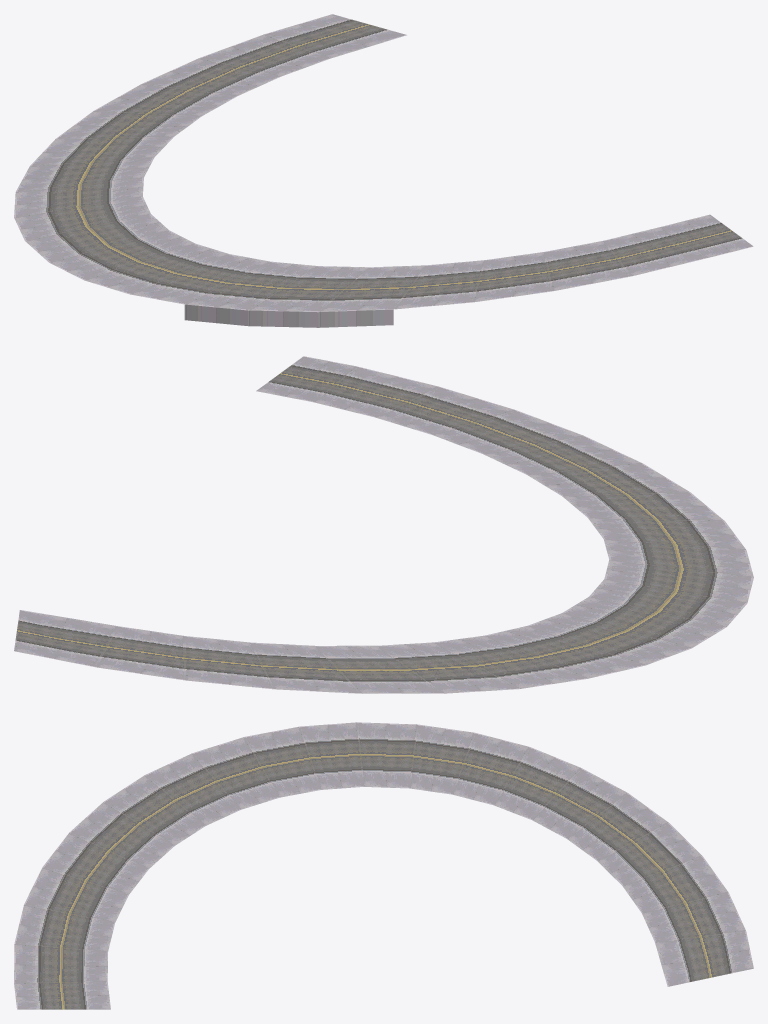
Rendered from lodaseroad130.obj.
3 renders of one model, top to bottom at view 1: azimuth 30°, elevation 25°; view 2: azimuth 150°, elevation 25°; view 3: azimuth 270°, elevation 25°, orthographic. The views are drawn at different scales.
Parts seen in each view (by area): view 1: lodasEroad130; view 2: lodasEroad130; view 3: lodasEroad130.
Part boxes in pixels (x1,y1,x2,y2): lodasEroad130: (14,14,753,327); lodasEroad130: (14,356,753,693); lodasEroad130: (14,722,753,1009).
Size of the model in its own units: 78.66 by 2.16 by 86.
Materials: 1 (1 with a texture image).
